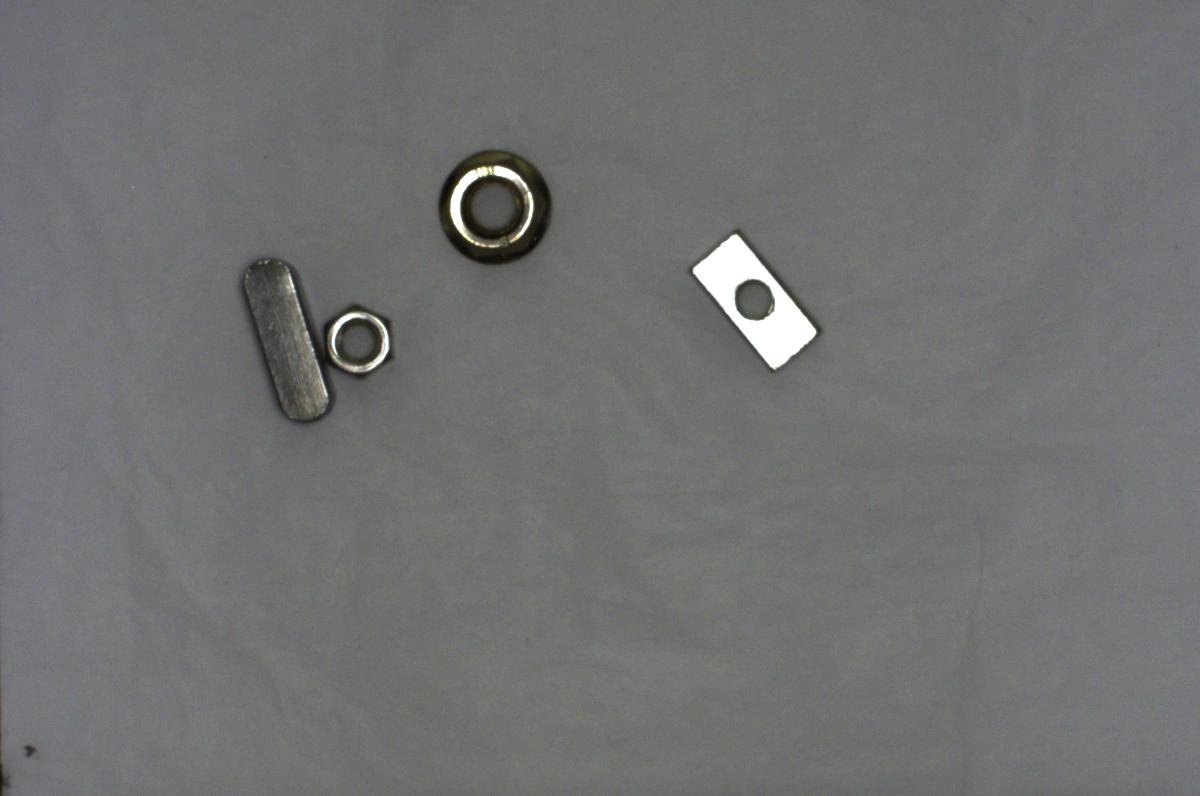Flange nut: (426, 142, 564, 267)
Hexagon nut: (321, 300, 397, 376)
Keybar: (230, 242, 335, 430)
Rectangular nut: (678, 223, 828, 381)
